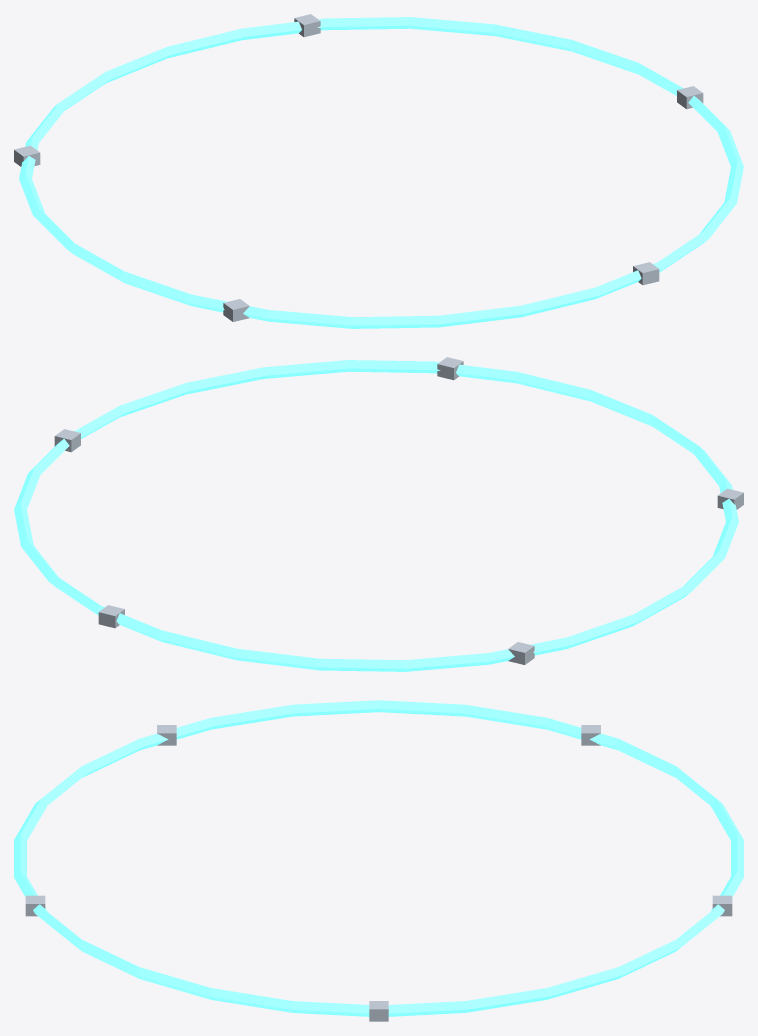
File: core_ring_mid.glb
The picture shows the model from 3 angles, top to bottom: view 1: azimuth 30°, elevation 25°; view 2: azimuth 150°, elevation 25°; view 3: azimuth 270°, elevation 25°; orthographic projection.
Visible parts, largest first — view 1: core_ring_mid; view 2: core_ring_mid; view 3: core_ring_mid.
Part boxes in pixels (x1,y1,x2,y2): core_ring_mid: [14, 14, 743, 328]; core_ring_mid: [14, 357, 743, 671]; core_ring_mid: [14, 700, 743, 1021].
Size of the model in its own units: 1.51 by 0.028 by 1.5.
